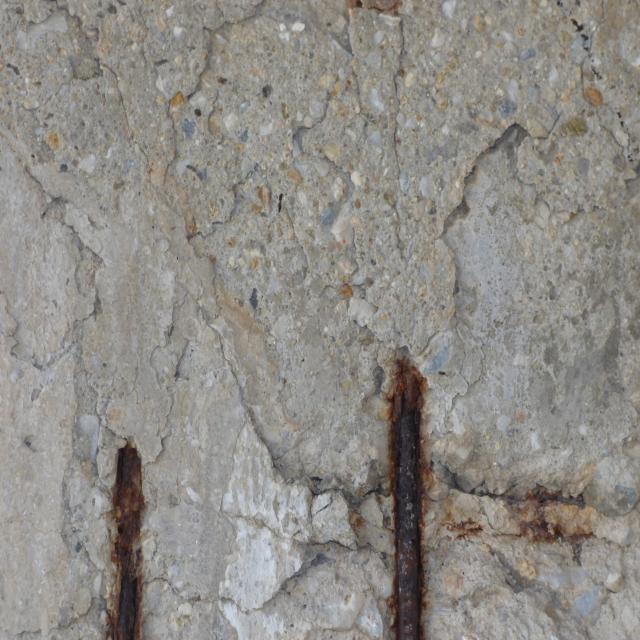corrosion: (371, 346, 451, 640), (446, 469, 614, 568), (103, 431, 164, 640)
